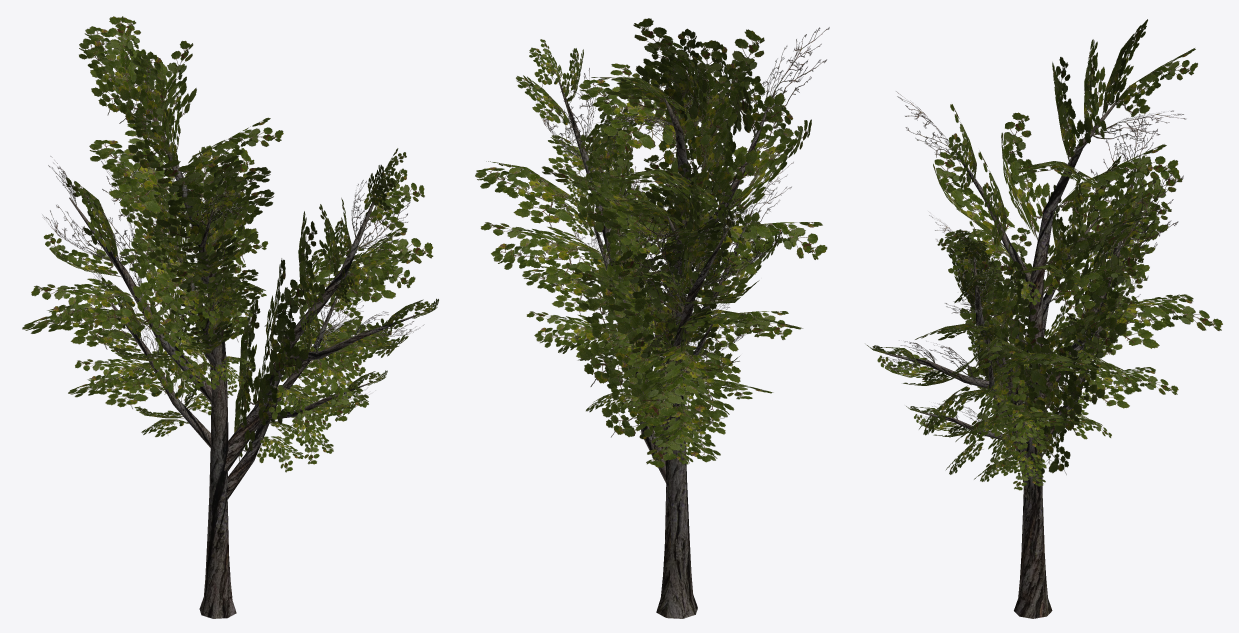
The model's file is linden.glb.
3 views of the same model, side by side, from view 1: azimuth 30°, elevation 25°; view 2: azimuth 150°, elevation 25°; view 3: azimuth 270°, elevation 25° (orthographic). The views are drawn at different scales.
Visible parts, largest first — view 1: Circle.005, Circle.009, Plane.029, Plane.052, Circle.001, Plane.001, Plane.045, Plane.026, Plane.038, Plane.027, Plane.046, Plane.044 (+9 smaller); view 2: Circle.005, Circle.009, Plane.026, Plane.004, Plane.007, Plane.051, Plane.050, Plane.046, Plane.006, Plane.023, Plane.035, Plane.047 (+10 smaller); view 3: Circle.005, Circle.009, Plane.026, Plane.023, Plane.038, Plane.004, Plane.037, Plane.002, Plane.003, Plane.048, Plane.032, Circle.001 (+5 smaller).
Boxes of the visible parts, box(x1,y1,x2,y2) form: Circle.005: box(22, 16, 438, 618); Circle.009: box(22, 21, 437, 428); Plane.029: box(75, 355, 156, 393); Plane.052: box(198, 260, 258, 318); Circle.001: box(226, 282, 343, 499); Plane.001: box(254, 339, 288, 425); Plane.045: box(170, 260, 242, 329); Plane.026: box(68, 376, 166, 408); Plane.038: box(119, 236, 199, 306); Plane.027: box(153, 309, 210, 371); Plane.046: box(149, 212, 188, 272); Plane.044: box(195, 282, 261, 342); Circle.005: box(475, 18, 829, 618); Circle.009: box(487, 28, 828, 416); Plane.026: box(635, 404, 725, 467); Plane.004: box(601, 351, 664, 441); Plane.007: box(527, 311, 617, 358); Plane.051: box(633, 155, 699, 235); Plane.050: box(645, 167, 700, 230); Plane.046: box(660, 171, 733, 256); Plane.006: box(522, 266, 608, 316); Plane.023: box(629, 327, 705, 403); Plane.035: box(703, 311, 792, 351); Plane.047: box(602, 189, 675, 254); Circle.005: box(867, 19, 1222, 618); Circle.009: box(872, 29, 1215, 451); Plane.026: box(1082, 367, 1178, 408); Plane.023: box(1065, 321, 1117, 404); Plane.038: box(1050, 252, 1144, 311); Plane.004: box(1002, 392, 1070, 474); Plane.037: box(1047, 304, 1117, 361); Plane.002: box(1002, 449, 1046, 490); Plane.003: box(984, 428, 1029, 474); Plane.048: box(1095, 179, 1159, 227); Plane.032: box(1093, 261, 1147, 331); Circle.001: box(987, 339, 1038, 503).
Bounding box in the file's own units: 6.53 × 10.38 × 5.97.
Materials: 1 (1 with a texture image).
